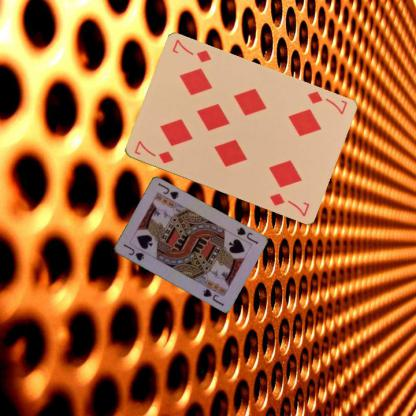7d: (304, 89, 349, 116), (131, 138, 175, 165)
Js: (234, 224, 259, 246), (120, 241, 145, 262)
